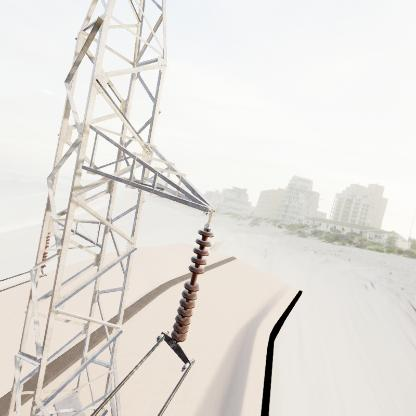insulator: (171, 221, 217, 340)
